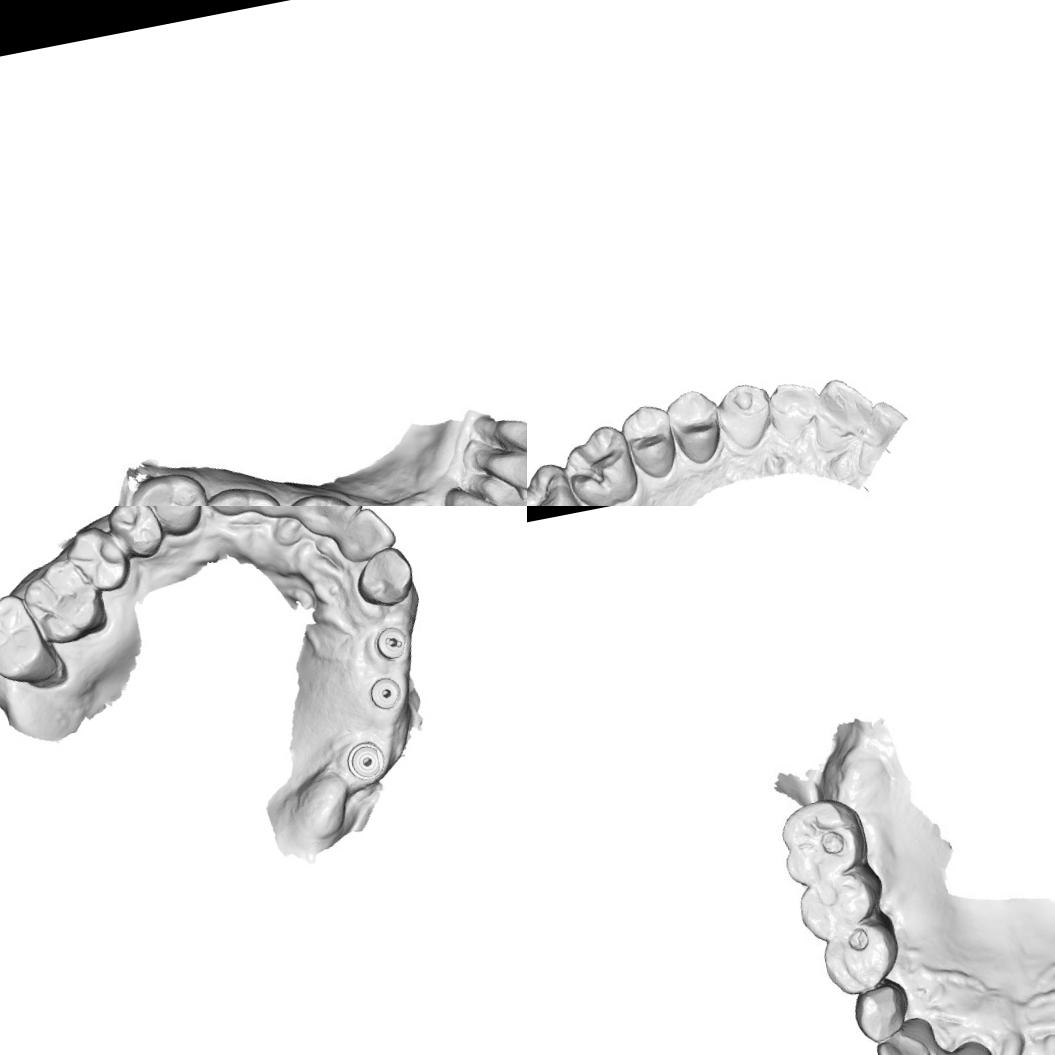canine: (346, 540, 420, 614), (711, 376, 776, 455), (850, 980, 914, 1044), (139, 506, 210, 543), (442, 479, 510, 506)
implant: (341, 737, 392, 784), (364, 671, 406, 712)
implant_minus: (370, 620, 414, 664)
incisor: (807, 370, 880, 441), (762, 374, 826, 450), (331, 506, 400, 565), (480, 436, 527, 502), (872, 1018, 943, 1055), (291, 506, 368, 537), (486, 406, 527, 464), (477, 465, 527, 506), (244, 506, 320, 522), (188, 506, 261, 522)
molar: (11, 548, 113, 651), (771, 796, 866, 890), (555, 418, 644, 506), (0, 584, 61, 694), (116, 463, 214, 506), (527, 456, 590, 506), (193, 476, 291, 506), (276, 485, 366, 506)
premolar: (810, 916, 907, 1002), (796, 864, 884, 944), (58, 518, 135, 601), (614, 397, 682, 485), (662, 382, 730, 470), (101, 506, 171, 565)
